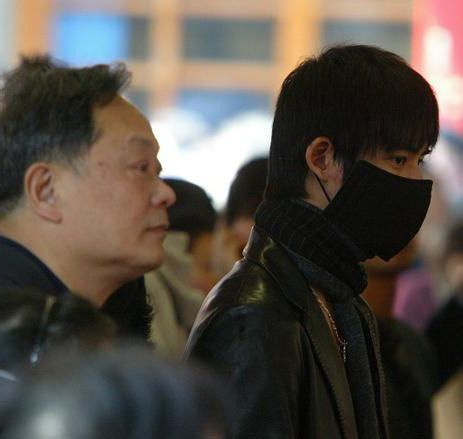face: (62, 97, 174, 268)
face_mask: (334, 107, 432, 256)
